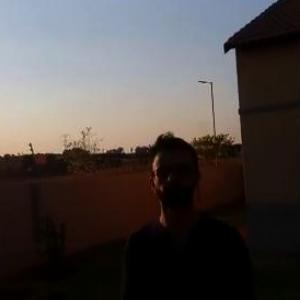follow: (114, 132, 259, 299)
